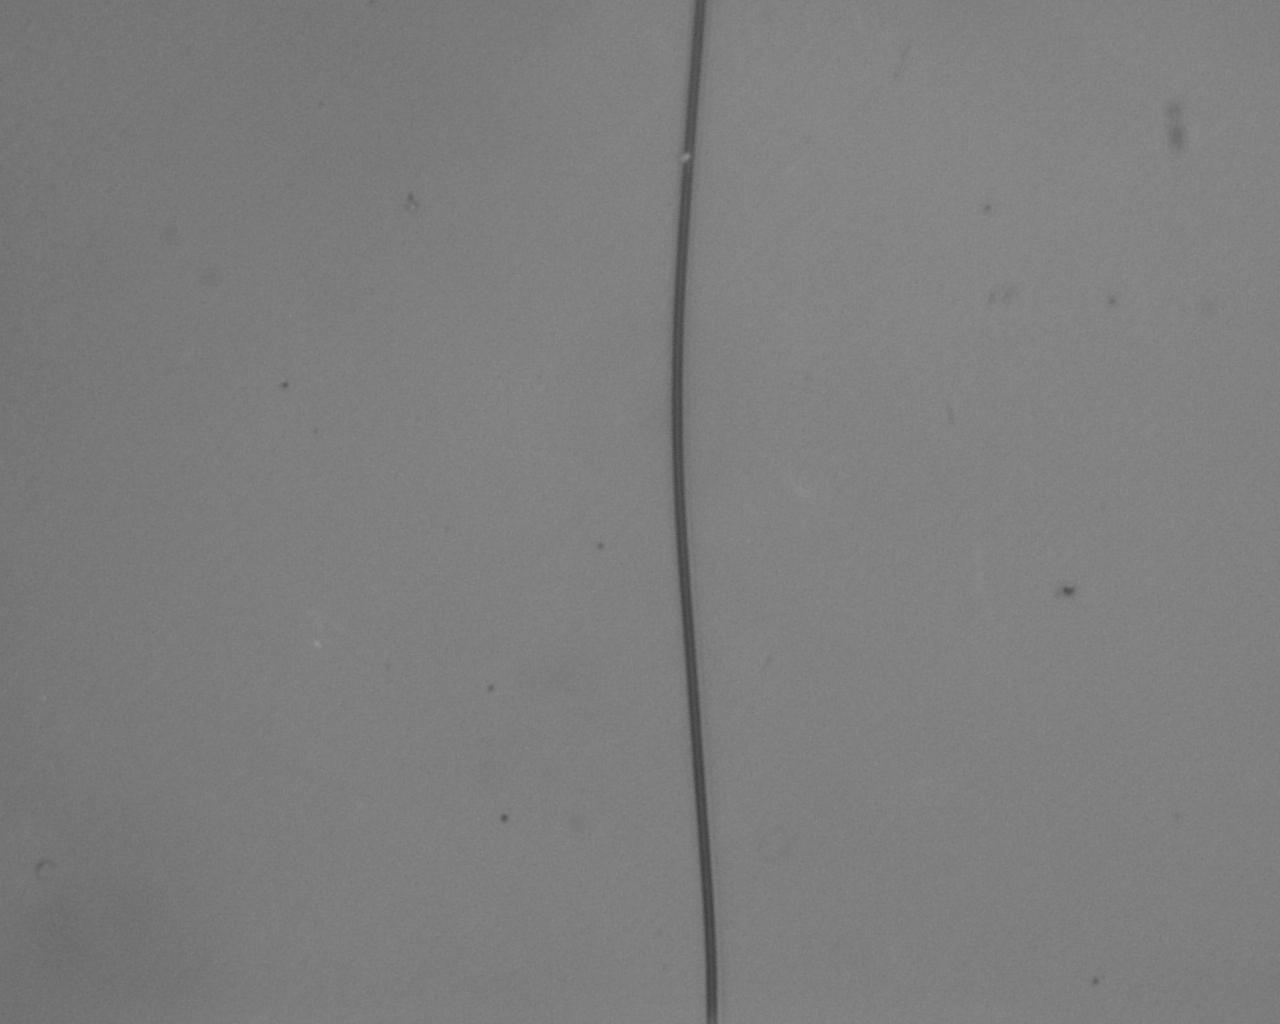fiber: (280, 0, 590, 727), (664, 248, 1280, 421), (1110, 727, 1275, 1024), (395, 727, 465, 1024)
